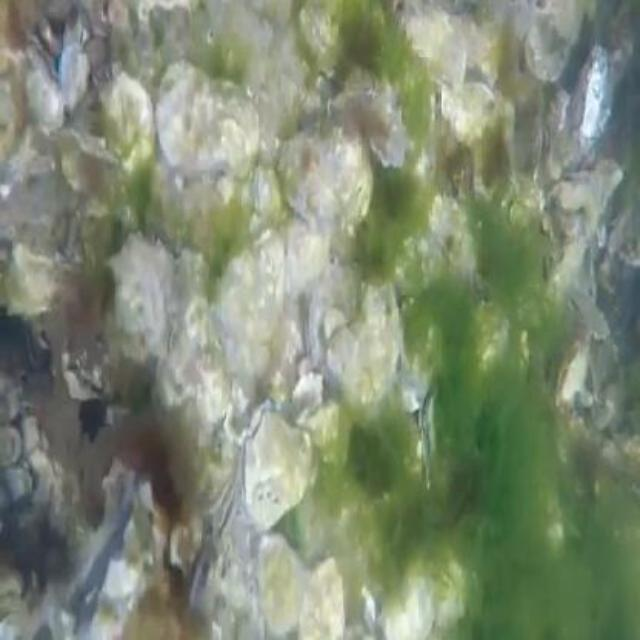Oyster-Closed: (214, 227, 286, 393), (160, 61, 260, 175), (279, 124, 373, 228), (238, 406, 312, 536), (442, 80, 514, 210), (325, 284, 400, 402), (156, 258, 213, 413), (103, 238, 178, 353), (309, 93, 408, 171), (553, 47, 613, 175), (303, 264, 360, 382), (395, 0, 468, 90), (524, 0, 590, 80), (257, 536, 306, 633), (105, 74, 153, 164), (396, 297, 434, 410), (298, 556, 345, 638), (377, 572, 435, 638), (26, 35, 63, 132), (58, 129, 115, 188), (7, 252, 56, 311), (550, 244, 588, 305), (555, 342, 590, 407), (571, 287, 609, 339), (420, 393, 439, 492), (61, 46, 88, 111), (203, 479, 235, 526), (430, 201, 463, 244), (62, 20, 89, 56), (7, 468, 30, 506), (0, 426, 22, 463)
Oyster-Open: (57, 469, 155, 638), (62, 330, 113, 401), (192, 546, 218, 617)
